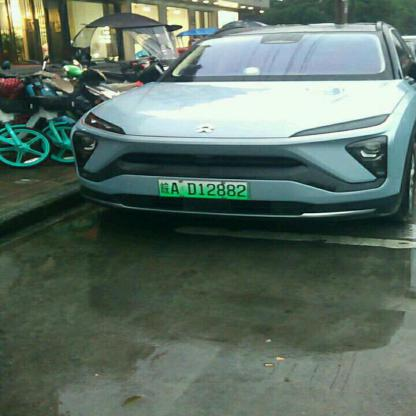lp: (156, 178, 250, 198)
